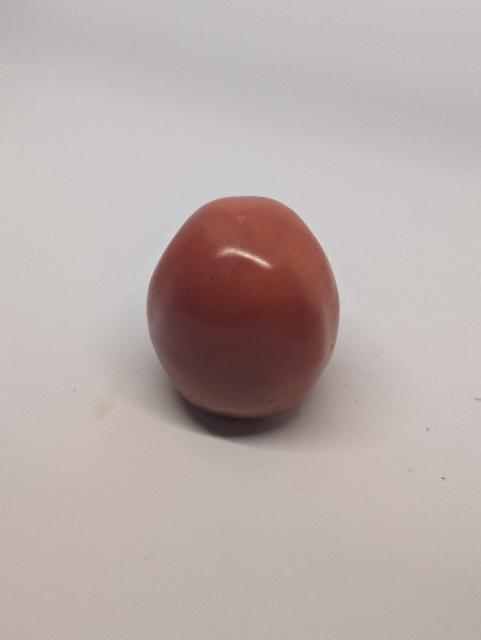red: (129, 193, 357, 439)
